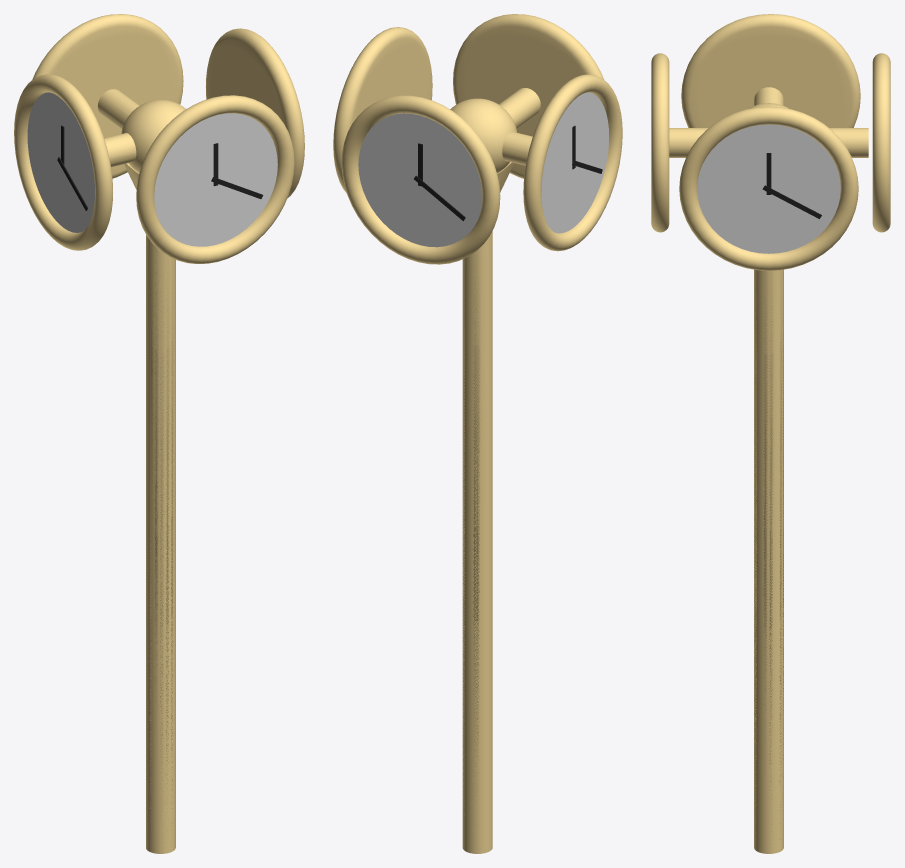
File: gold_clock.fbx
3 renders of one model, left to right at view 1: azimuth 30°, elevation 25°; view 2: azimuth 150°, elevation 25°; view 3: azimuth 270°, elevation 25°, orthographic.
Parts seen in each view (by area): view 1: ICO球, ダイアル, ダイアル.003, ダイアル.002, 立方体, ダイアル.001, 円柱; view 2: ICO球, ダイアル.002, ダイアル.003, ダイアル, ダイアル.001, 立方体, 円柱.001; view 3: ダイアル.001, ICO球, ダイアル.003, 立方体, ダイアル, ダイアル.002, 円柱.001.
Part boxes in pixels (left/top/right/bottom): ICO球: left=97, top=89, right=186, bottom=853; ダイアル: left=136, top=95, right=294, bottom=263; ダイアル.003: left=14, top=74, right=112, bottom=250; ダイアル.002: left=32, top=14, right=183, bottom=178; 立方体: left=130, top=167, right=173, bottom=821; ダイアル.001: left=206, top=28, right=304, bottom=198; 円柱: left=104, top=133, right=136, bottom=162; ICO球: left=450, top=88, right=540, bottom=853; ダイアル.002: left=341, top=95, right=500, bottom=264; ダイアル.003: left=523, top=74, right=622, bottom=251; ダイアル: left=453, top=14, right=604, bottom=178; ダイアル.001: left=333, top=27, right=432, bottom=193; 立方体: left=463, top=162, right=513, bottom=825; 円柱.001: left=500, top=88, right=540, bottom=128; ダイアル.001: left=679, top=106, right=858, bottom=270; ICO球: left=669, top=103, right=868, bottom=853; ダイアル.003: left=681, top=14, right=860, bottom=127; 立方体: left=754, top=270, right=783, bottom=840; ダイアル: left=651, top=53, right=669, bottom=232; ダイアル.002: left=872, top=53, right=890, bottom=232; 円柱.001: left=669, top=128, right=868, bottom=157.
Bounding box in the file's own units: 59.5 × 218 × 60.
